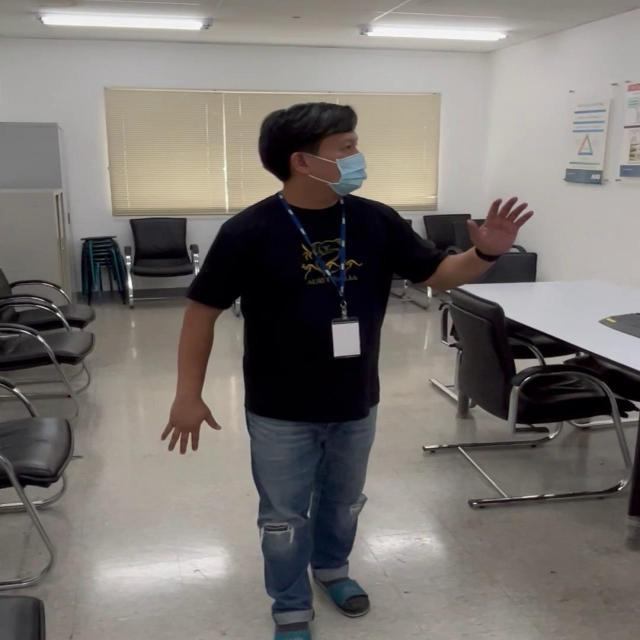bare_hand: (466, 192, 533, 260), (158, 392, 217, 454)
